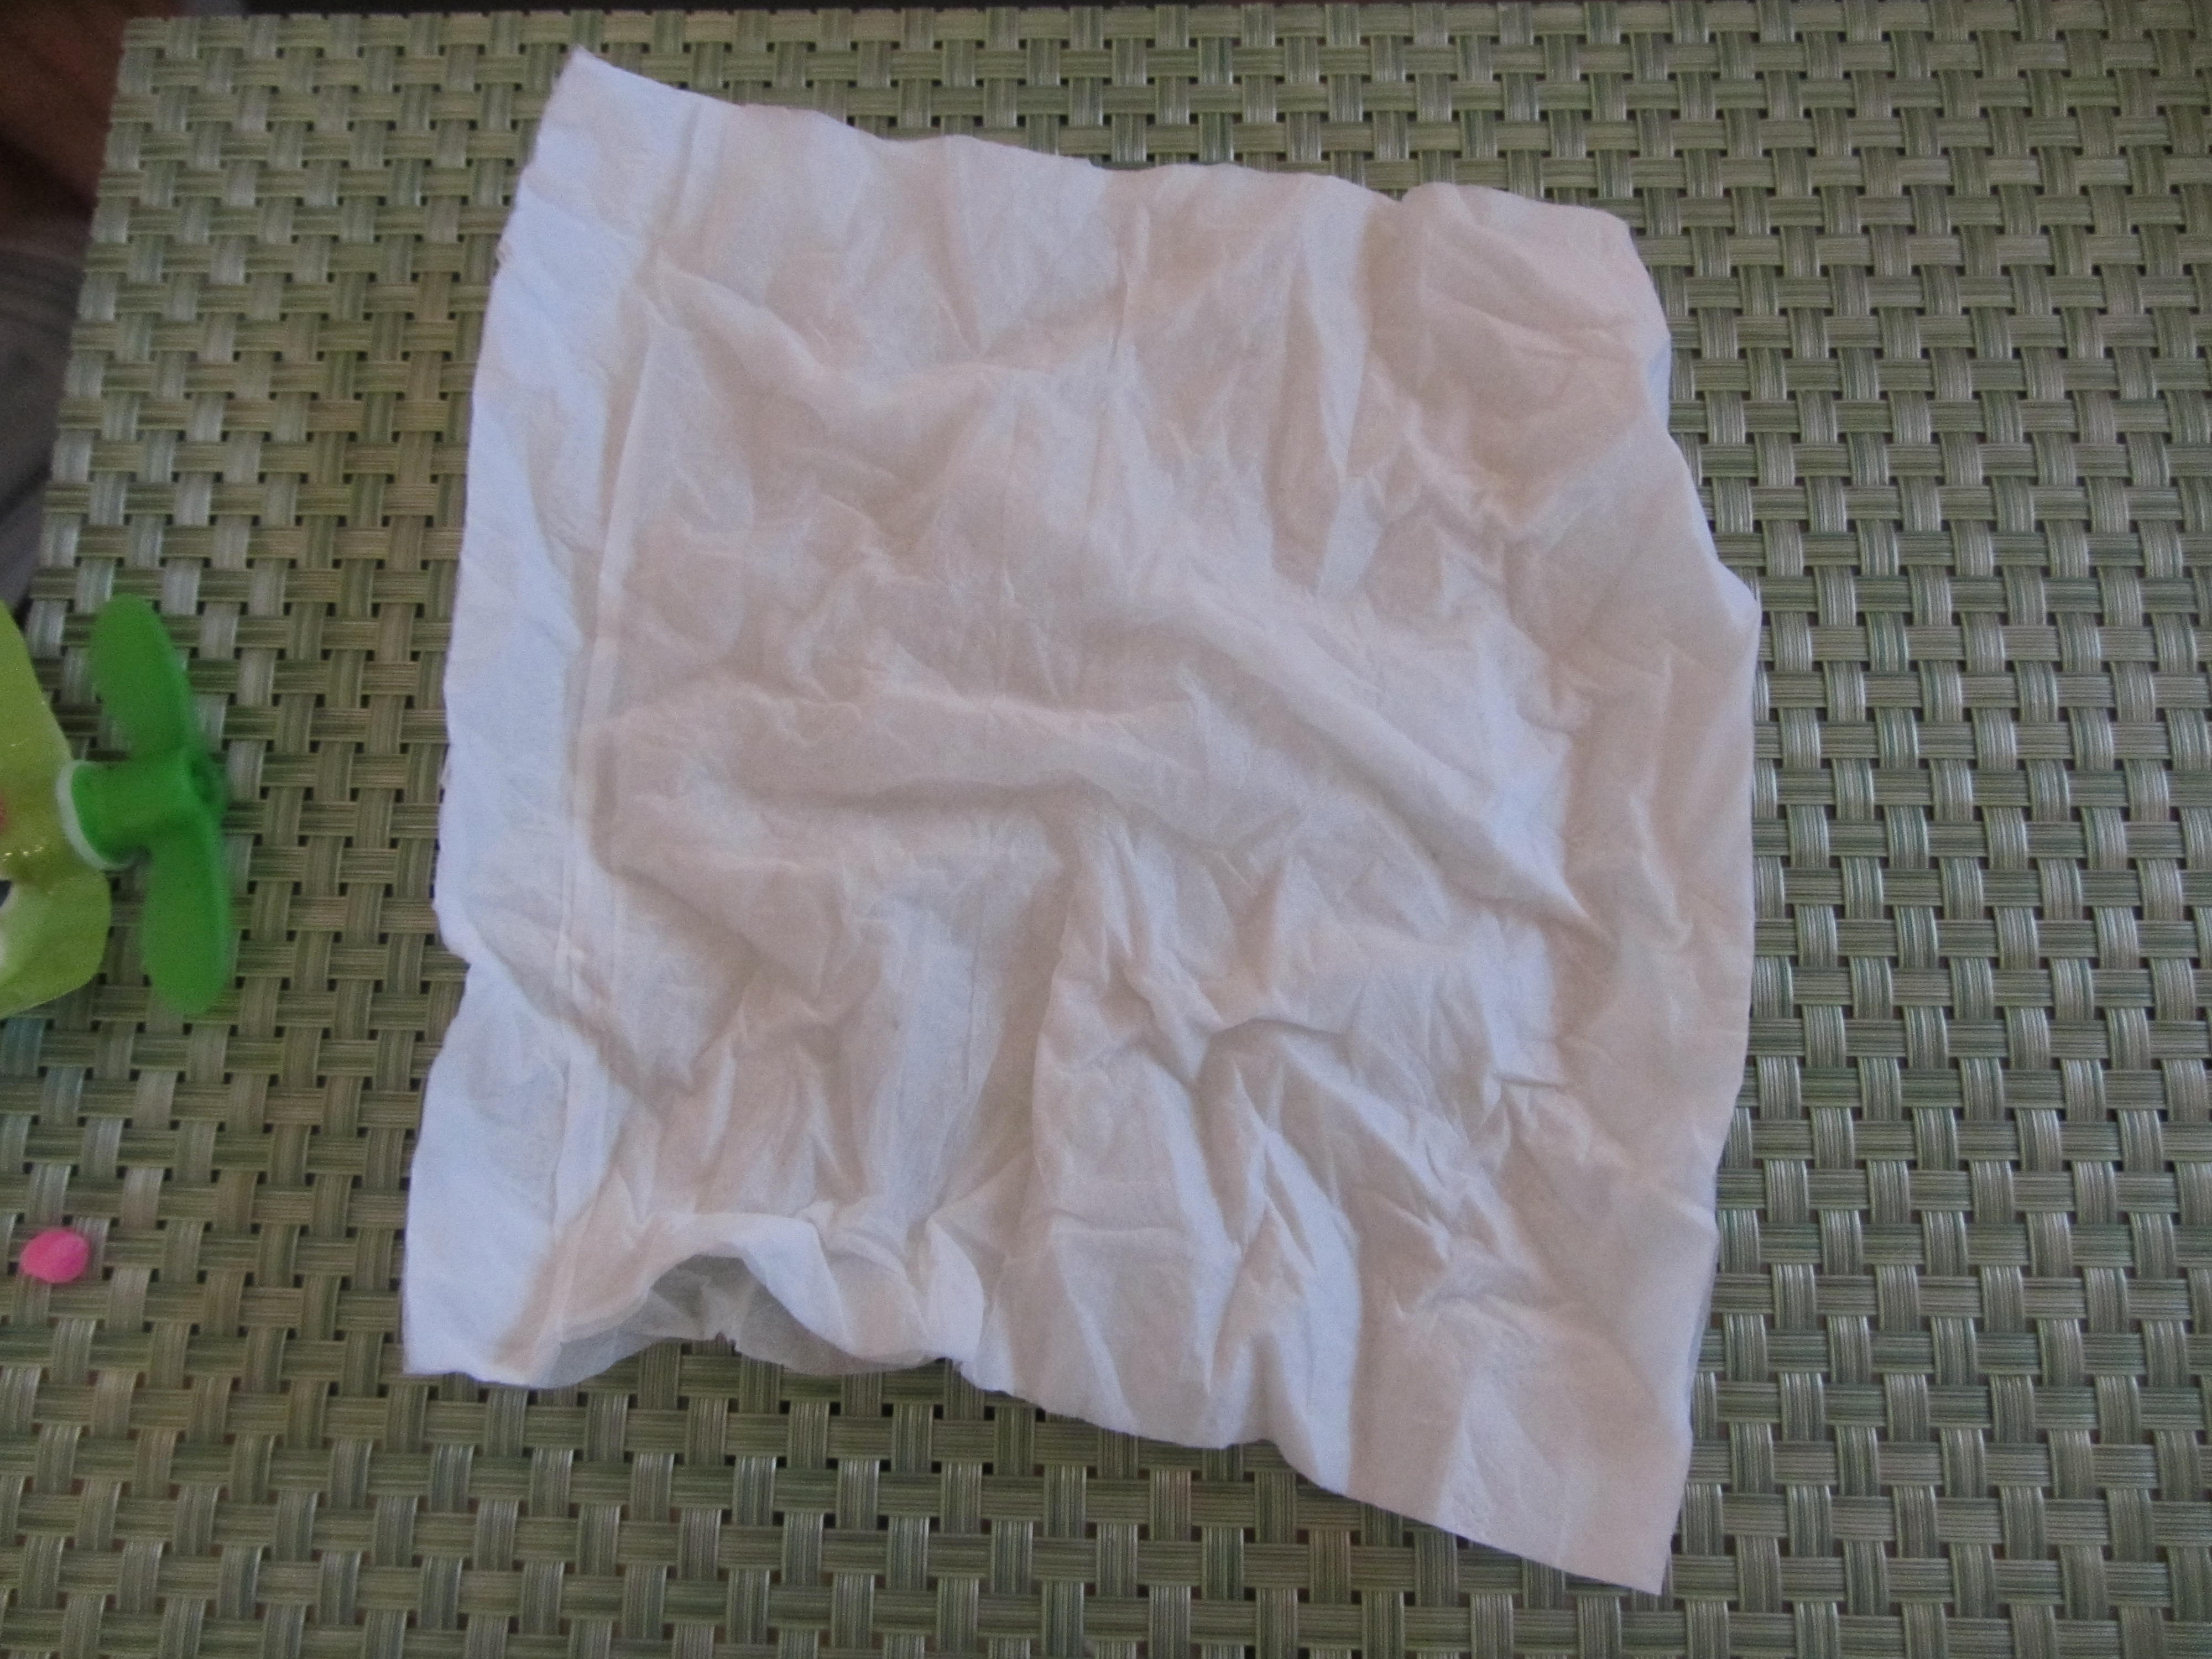tissue: (401, 42, 1759, 1591)
